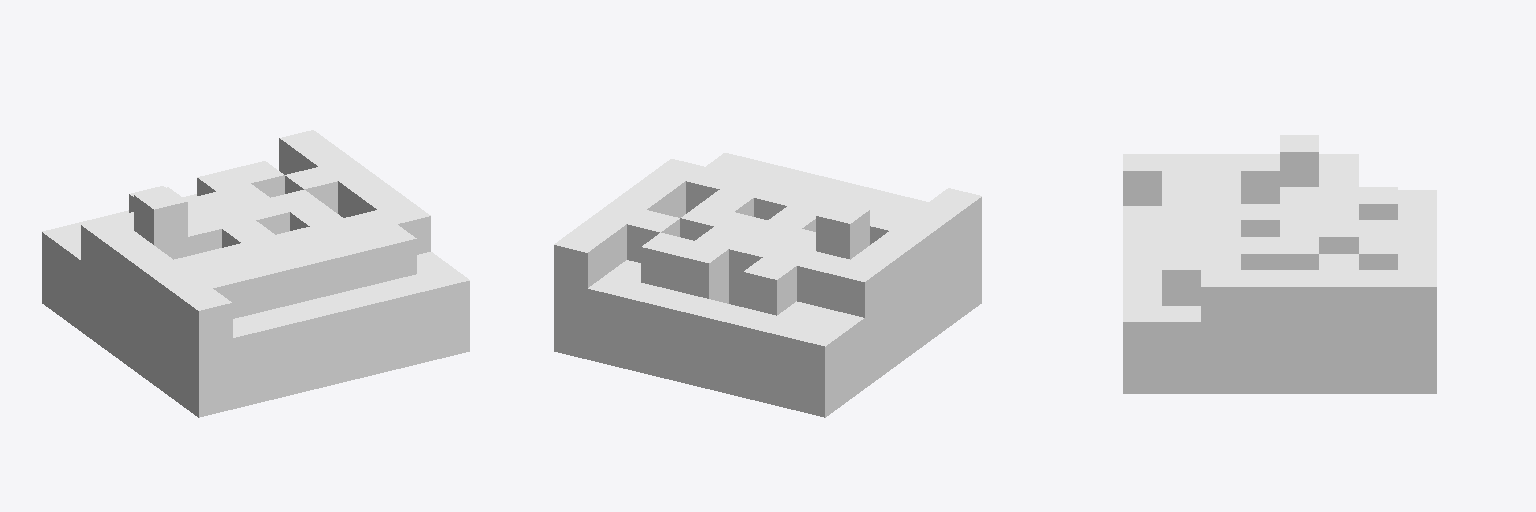
The model's file is Lava3.obj.
3 views of the same model, side by side, from view 1: azimuth 30°, elevation 25°; view 2: azimuth 150°, elevation 25°; view 3: azimuth 270°, elevation 25° (orthographic).
Parts seen in each view (by area): view 1: object 1; view 2: object 1; view 3: object 1.
Boxes of the visible parts, <box> form: object 1: <box>42,130,469,417</box>; object 1: <box>554,153,981,417</box>; object 1: <box>1123,135,1436,393</box>.
Size of the model in its own units: 0.8 by 0.4 by 0.8.